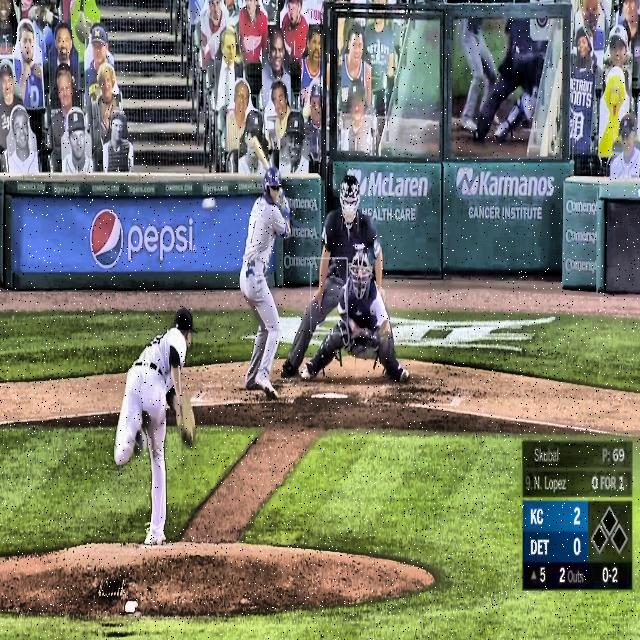baseball: (202, 196, 216, 212)
